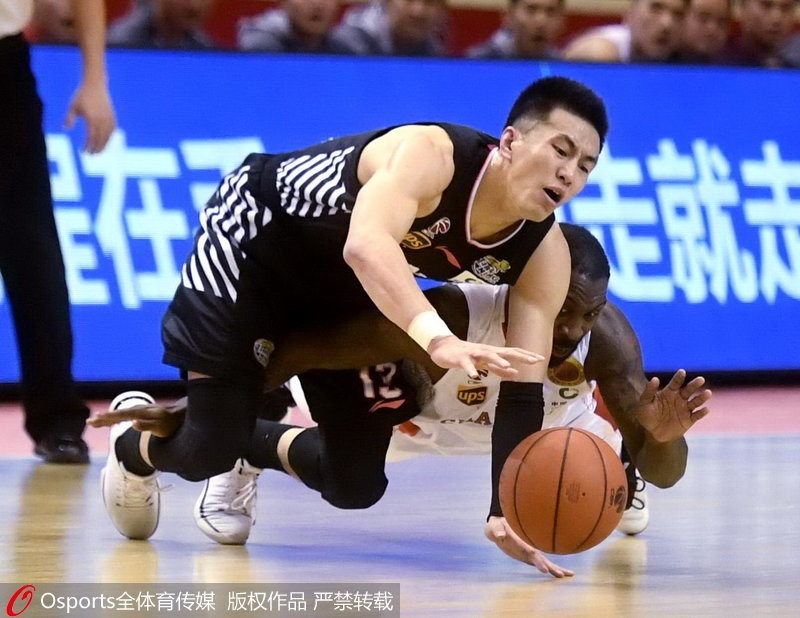falling: (99, 109, 683, 560)
